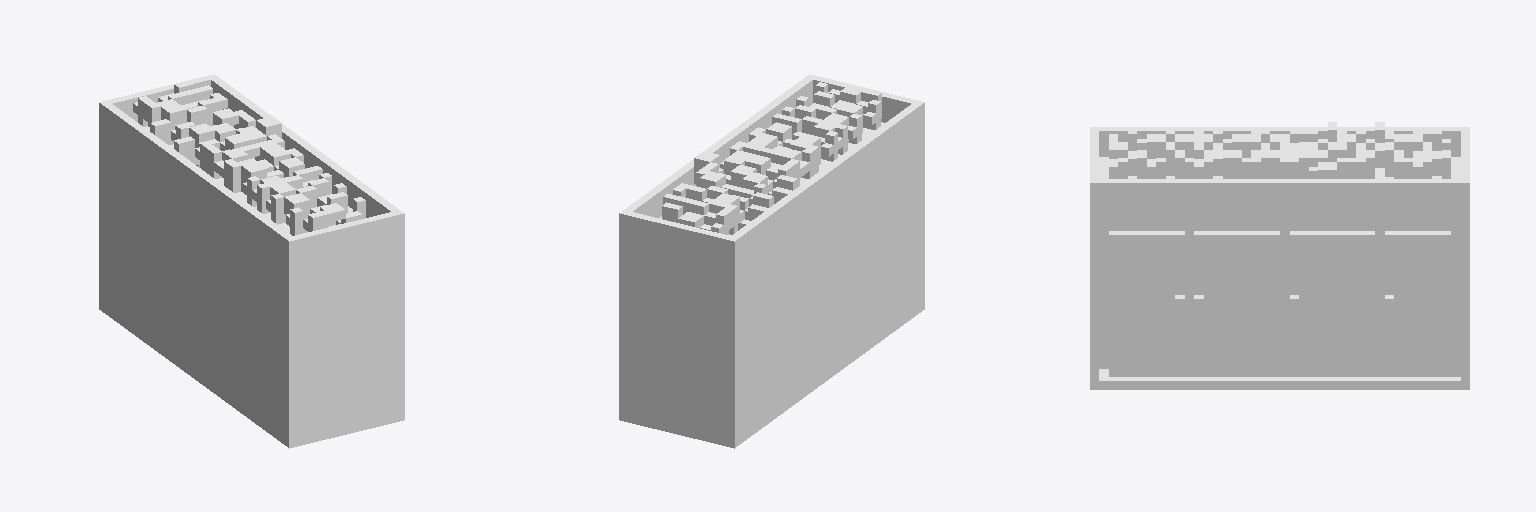
The model's file is bedbox_15_40_25.obj.
3 renders of one model, left to right at view 1: azimuth 30°, elevation 25°; view 2: azimuth 150°, elevation 25°; view 3: azimuth 270°, elevation 25°, orthographic.
Visible parts, largest first — view 1: object 1; view 2: object 1; view 3: object 1.
Part boxes in pixels (x1,y1,x2,y2): object 1: (99,74,404,448); object 1: (619,74,924,448); object 1: (1090,122,1469,389).
Size of the model in its own units: 1.5 by 2.5 by 4.